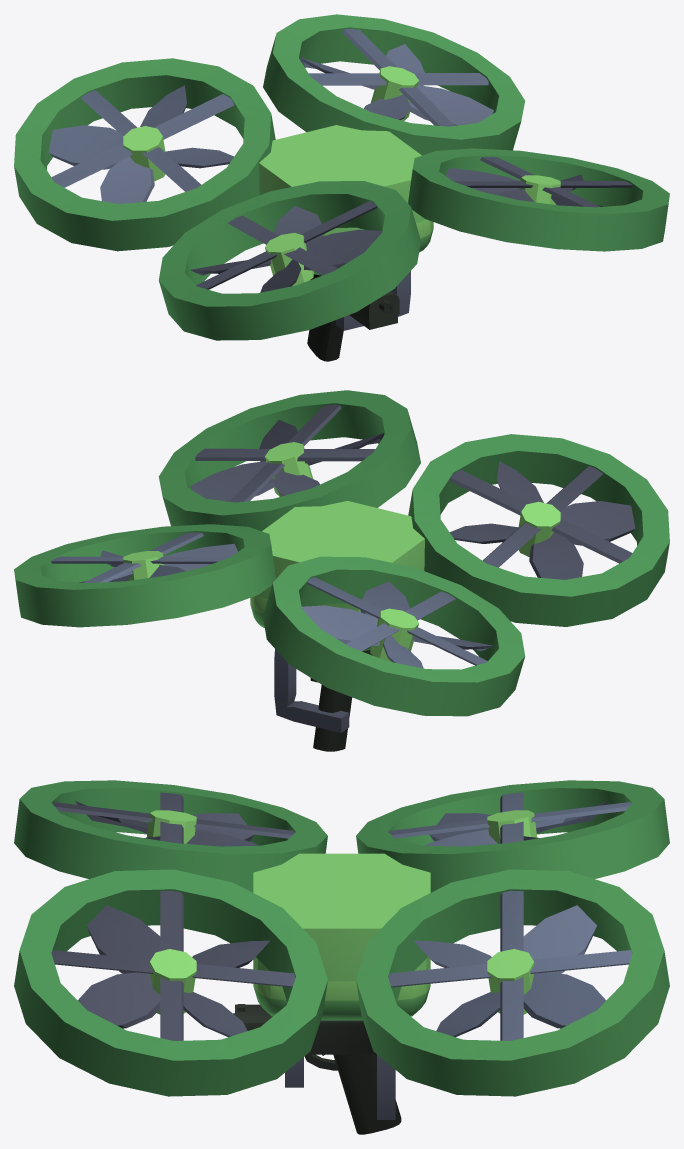
Rendered from bacic.fbx.
The picture shows the model from 3 angles, top to bottom: view 1: azimuth 30°, elevation 25°; view 2: azimuth 150°, elevation 25°; view 3: azimuth 270°, elevation 25°; orthographic projection. The views are drawn at different scales.
Visible parts, largest first — view 1: basic; view 2: basic; view 3: basic.
Part boxes in pixels (bbox=[...]): basic: bbox=[14, 14, 669, 361]; basic: bbox=[14, 390, 669, 751]; basic: bbox=[14, 780, 669, 1134].
Bounding box in the file's own units: 105 × 49.37 × 106.
